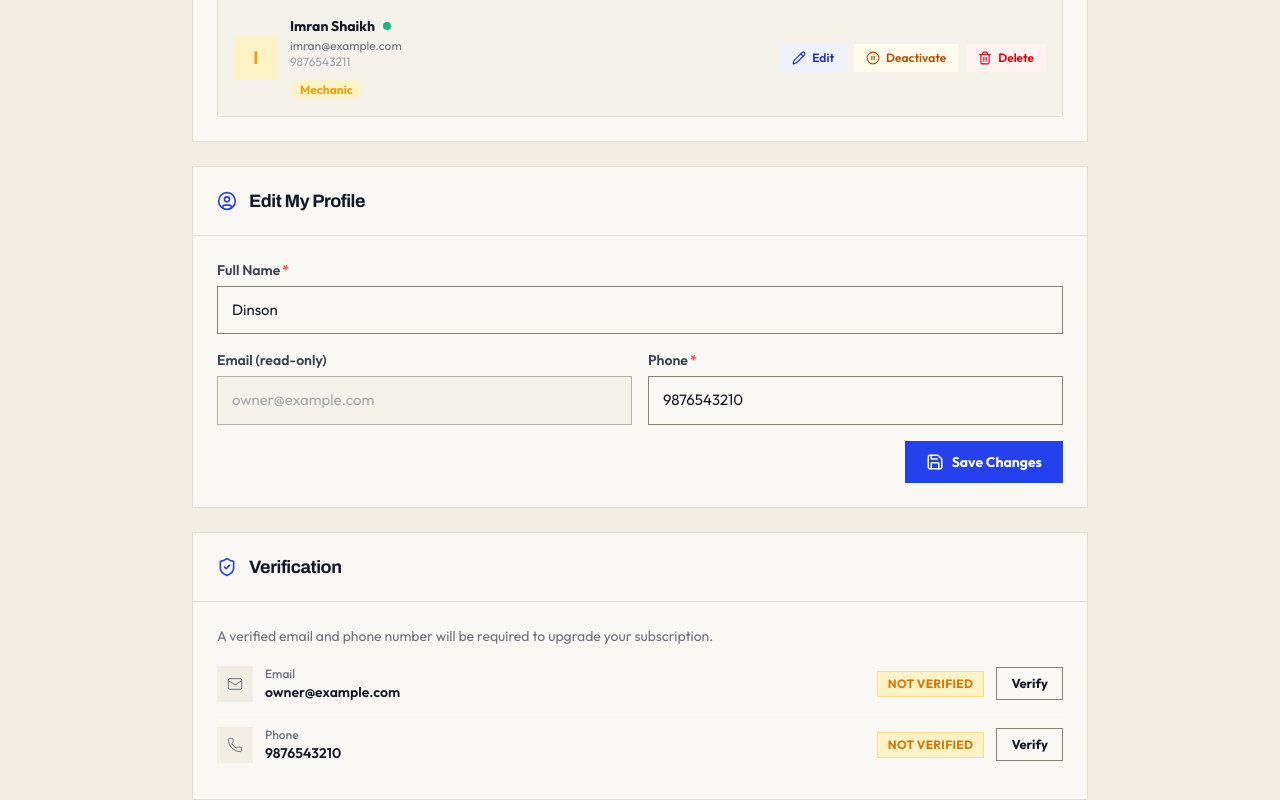
Test: Settings forms › profile › rejects a malformed phone number before it reaches the API
(page scrolled)
Check: the heading "Edit My Profile" is shown, box [249,186,365,214]
Step 1. Replace the text in the field labelled "Phone*" with "not a phone" → (856,400), box [648,376,1063,424]
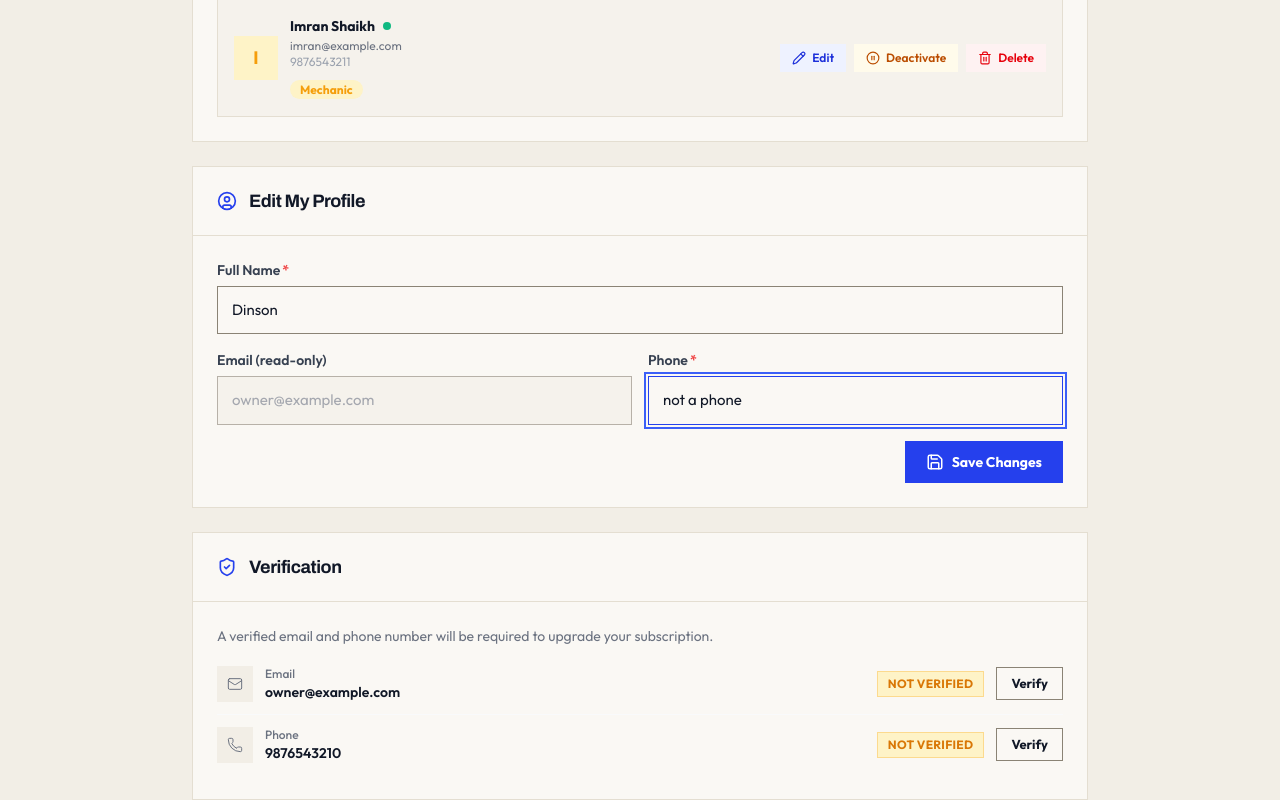
Step 2. Click the button "Save Changes" → (984,462), box [905,440,1063,482]
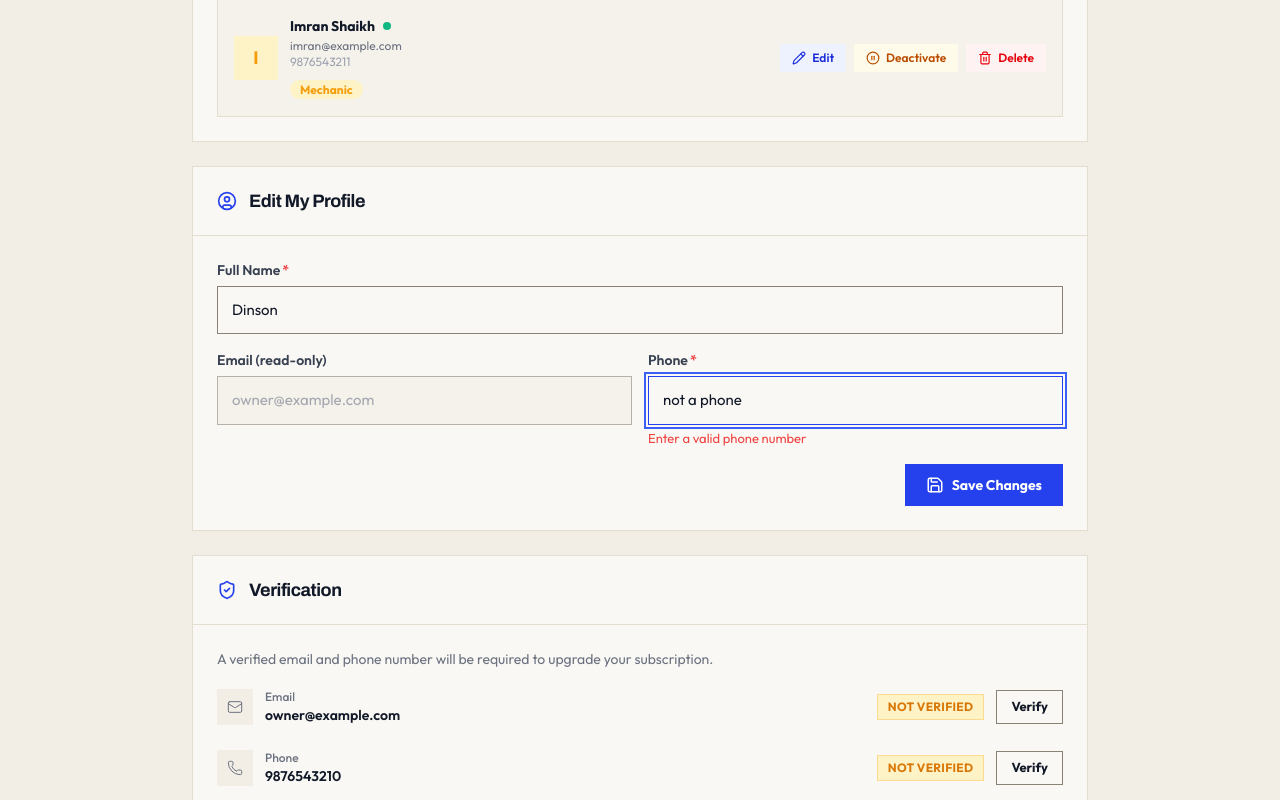
Check: the text "Enter a valid phone number" is shown, box [648,430,806,446]
